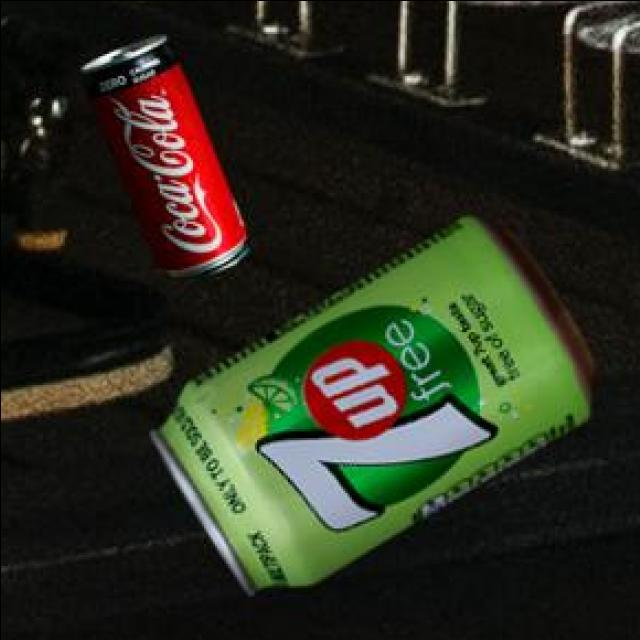logam: (153, 220, 599, 597), (85, 36, 253, 279)
